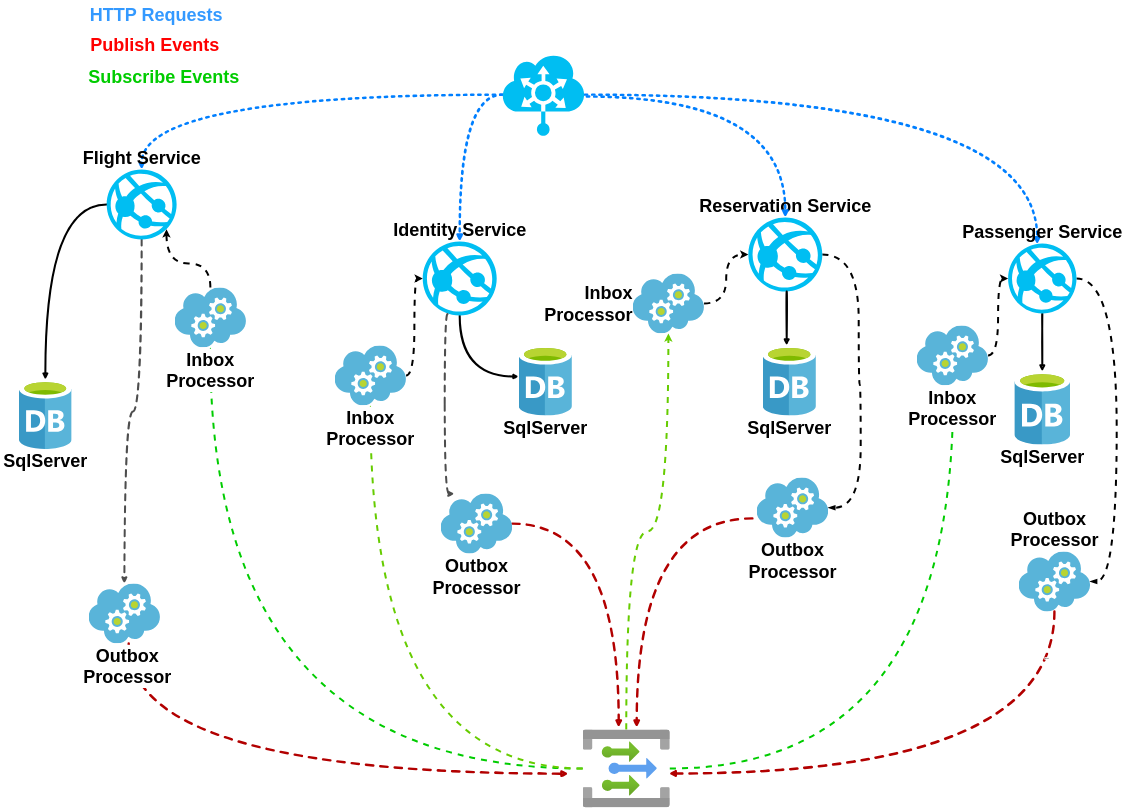
The diagram is 1126 pixels wide and 811 high, and some of its shapes have lost their labels. Here are the shapes that lost their labels. From the top down, the box of each, then its label:
(502, 53, 585, 136): API Gateway
(583, 729, 670, 807): dd
